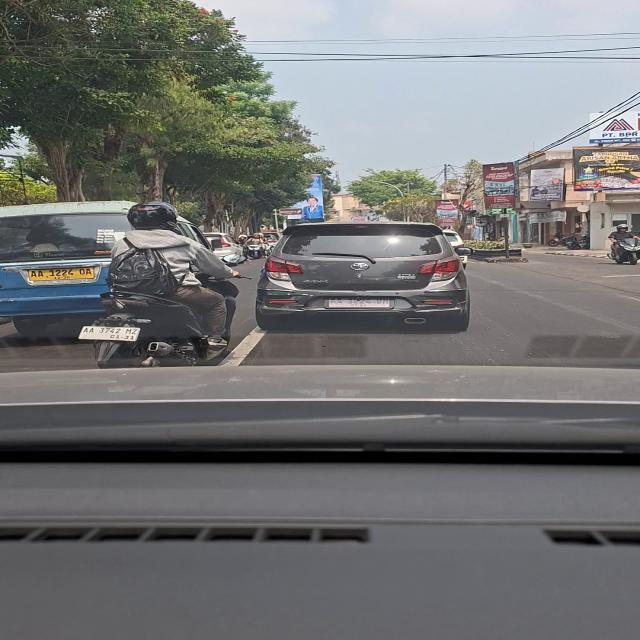WithHelmet: (109, 201, 242, 349), (606, 224, 640, 260), (246, 233, 266, 259), (236, 235, 248, 254)
